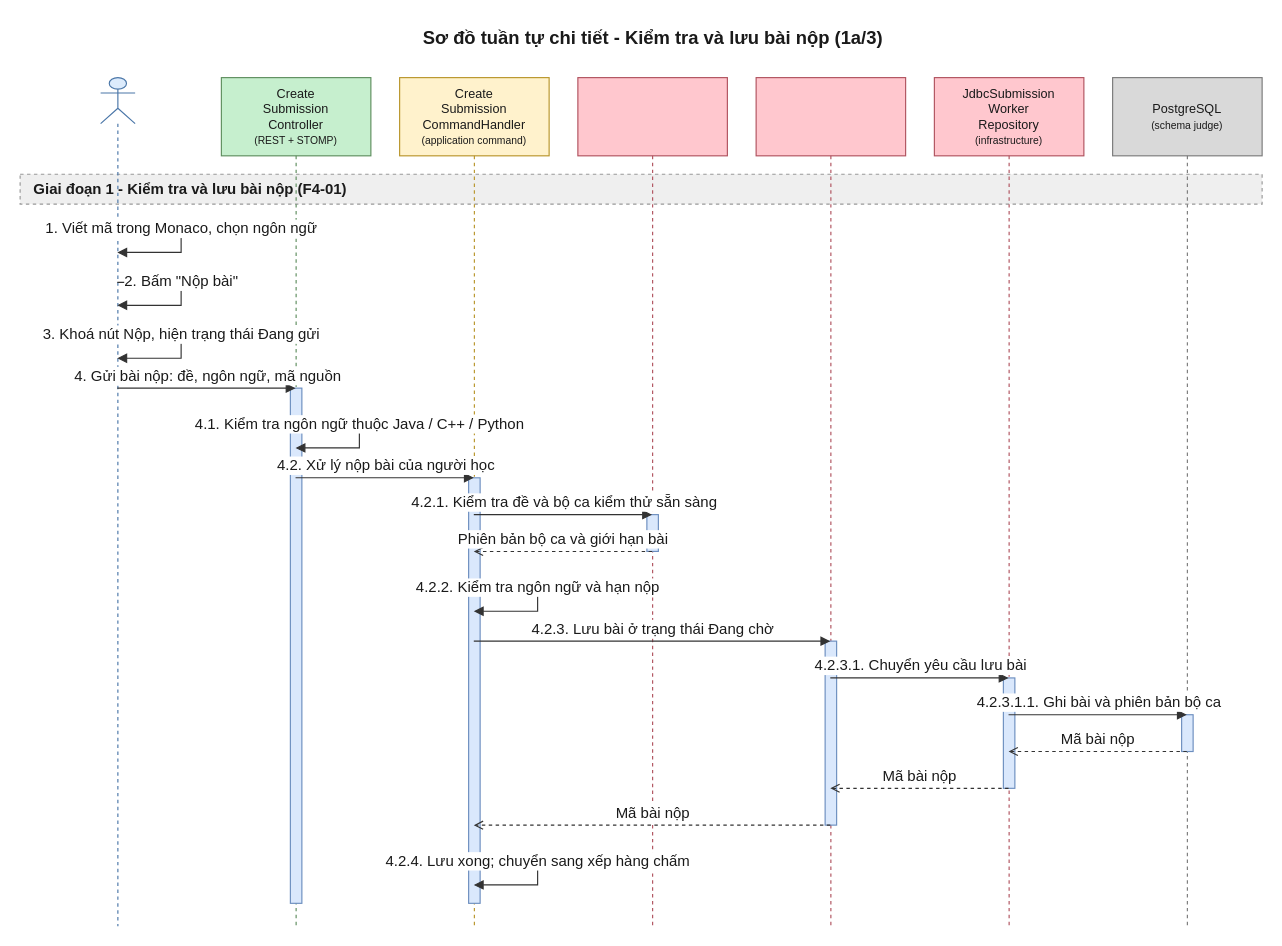
Some shapes in this 1282 by 946 pixel diagram are drawn without their labels. Each missing label, with the box of its shape:
GradingPort (domain port → F2): (577, 76, 727, 926)
Sinh viên: (99, 76, 135, 926)
Submission Worker Repository (domain output port): (755, 76, 906, 926)
